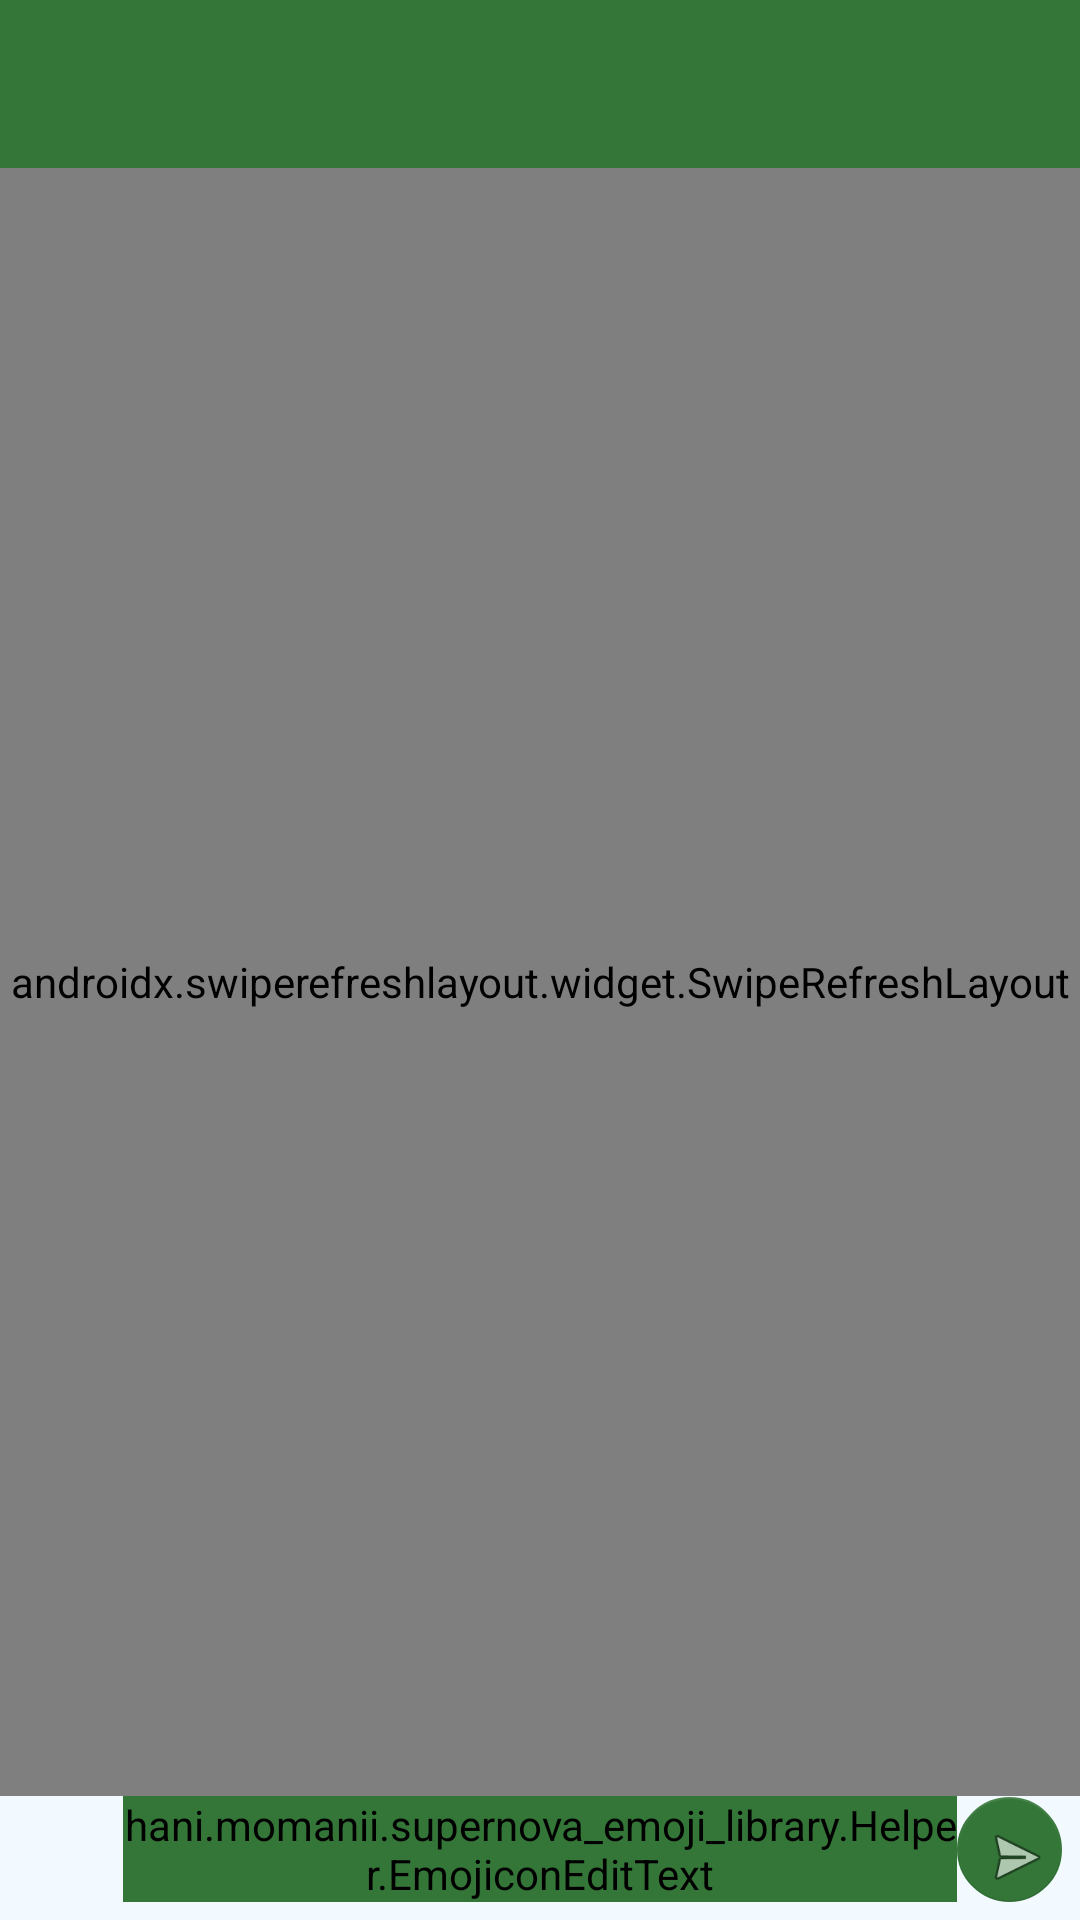

Icons on this 1080x1920 Android screen, each with the point to tap as (x=x, y=y):
send: (x=1009, y=1849)
